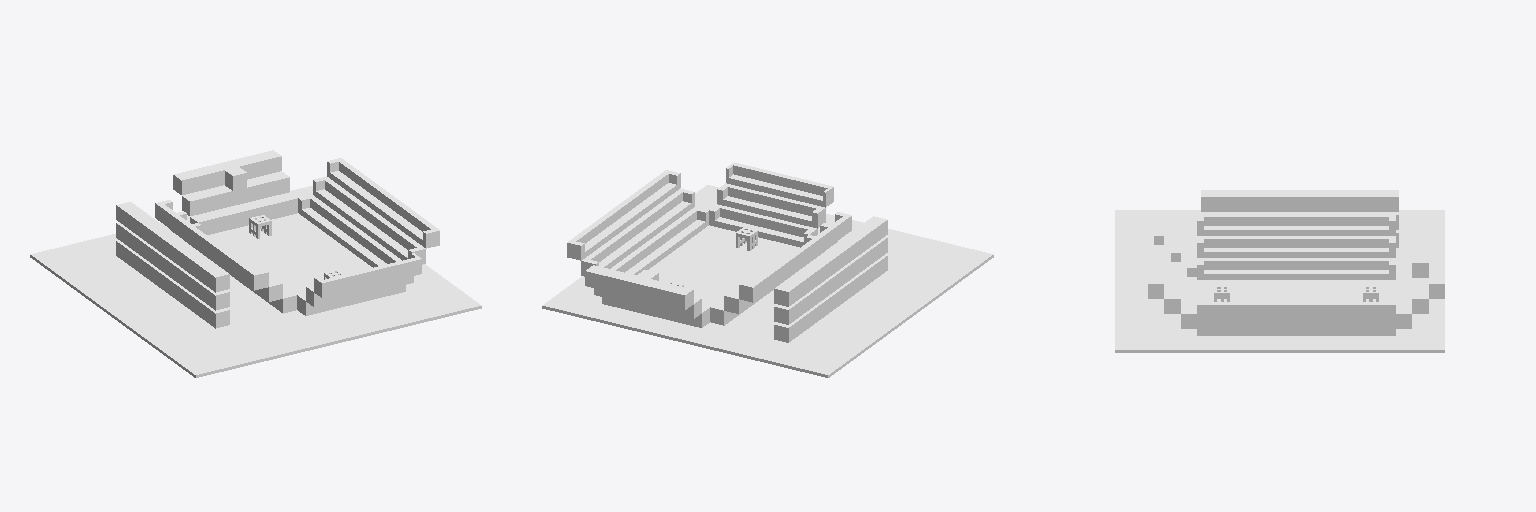
The model's file is stadium2.obj.
3 renders of one model, left to right at view 1: azimuth 30°, elevation 25°; view 2: azimuth 150°, elevation 25°; view 3: azimuth 270°, elevation 25°, orthographic.
Parts seen in each view (by area): view 1: stadium2; view 2: stadium2; view 3: stadium2.
Boxes of the visible parts, box(x1,y1,x2,y2) form: stadium2: box(30, 150, 481, 377); stadium2: box(542, 162, 993, 377); stadium2: box(1115, 190, 1444, 352).
Size of the model in its own units: 100 by 18 by 100.